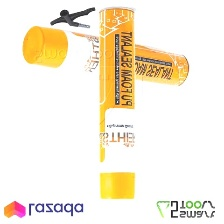aerosol_cans: (17, 22, 191, 89), (94, 3, 140, 203)
